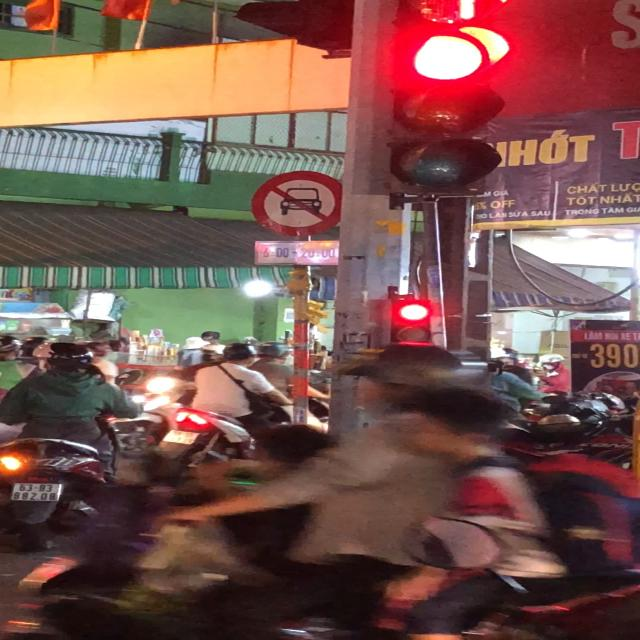Bien bao cam xe oto: (248, 170, 354, 241)
